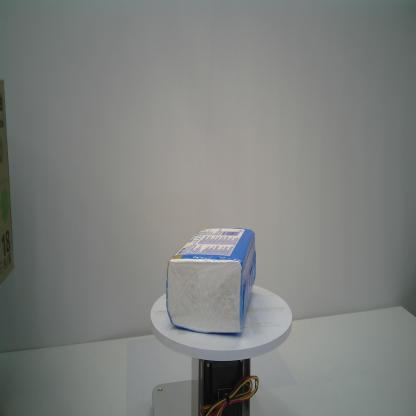Tissue: (164, 225, 258, 337)
